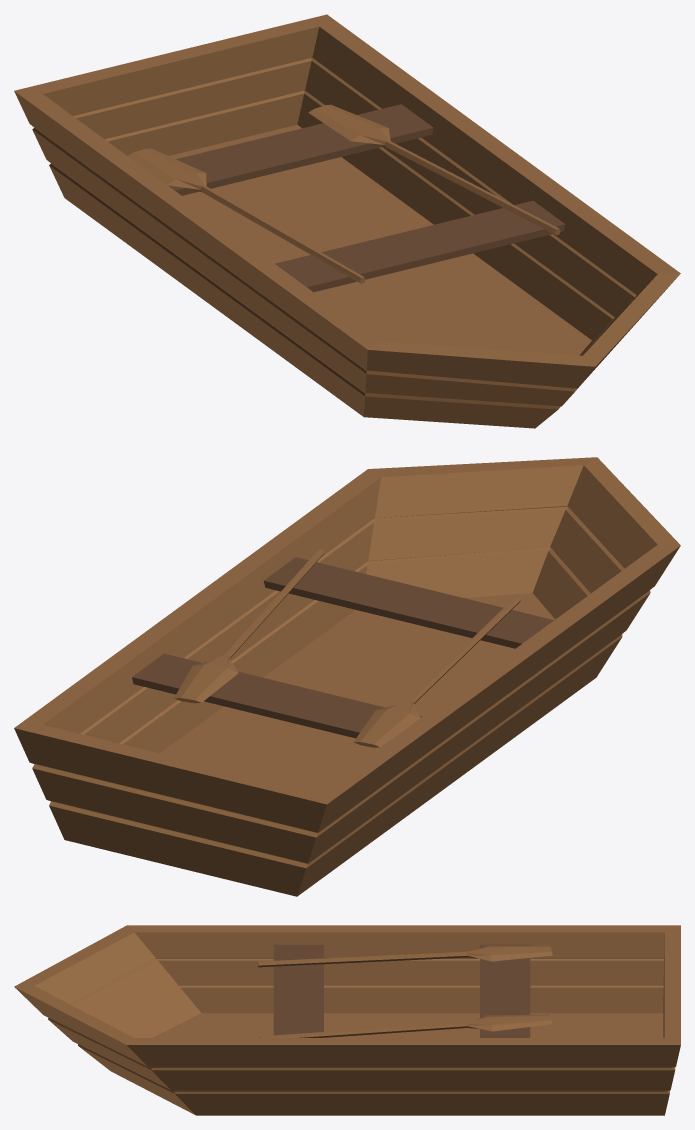
The model's file is Boat_base_mat.fbx.
3 renders of one model, top to bottom at view 1: azimuth 30°, elevation 25°; view 2: azimuth 150°, elevation 25°; view 3: azimuth 270°, elevation 25°, orthographic. The views are drawn at different scales.
Visible parts, largest first — view 1: Boat_base_mat; view 2: Boat_base_mat; view 3: Boat_base_mat.
Boxes of the visible parts, left/top/right/bottom form: Boat_base_mat: left=14, top=14, right=680, bottom=428; Boat_base_mat: left=14, top=457, right=680, bottom=896; Boat_base_mat: left=14, top=925, right=680, bottom=1115.
Size of the model in its own units: 71.44 by 23.9 by 168.
